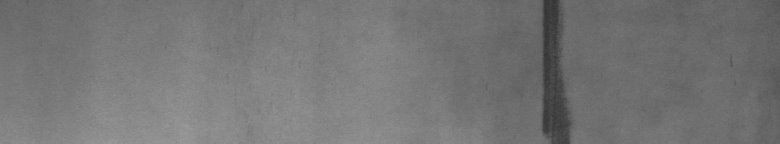hd: (536, 4, 576, 136)
